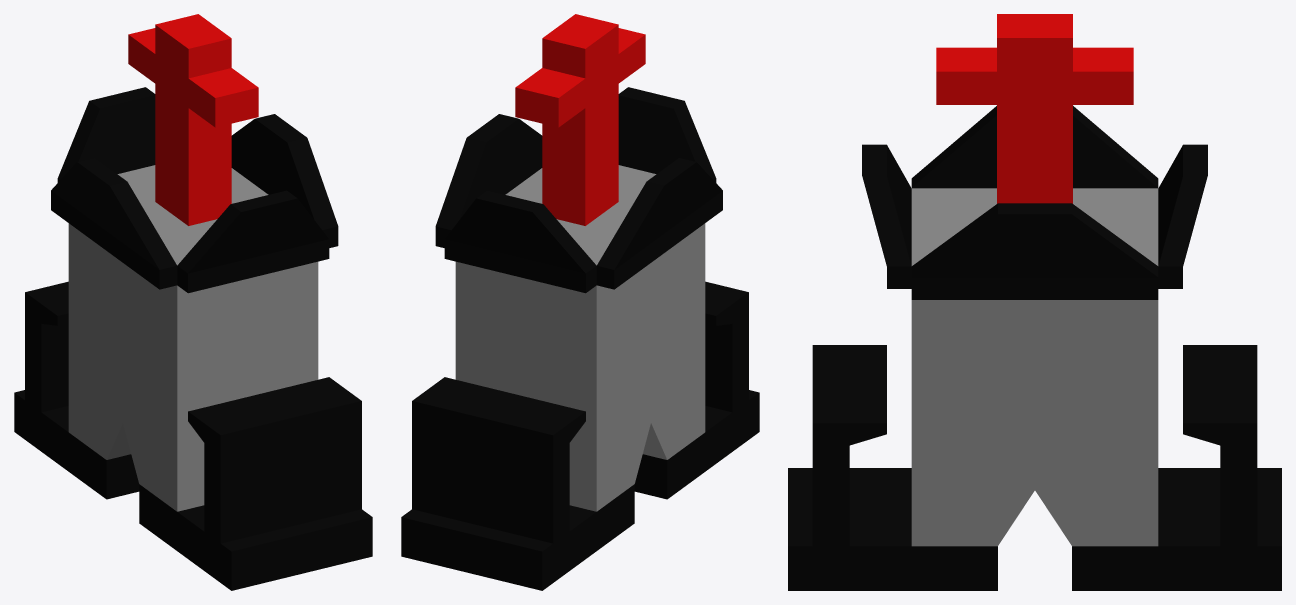
File: Spawner_Textured.fbx
3 views of the same model, side by side, from view 1: azimuth 30°, elevation 25°; view 2: azimuth 150°, elevation 25°; view 3: azimuth 270°, elevation 25° (orthographic). The views are drawn at different scales.
Parts seen in each view (by area): view 1: pCube1; view 2: pCube1; view 3: pCube1.
Boxes of the visible parts, <box> form: pCube1: <box>14,14,372,590</box>; pCube1: <box>401,14,759,590</box>; pCube1: <box>788,14,1281,590</box>.
Bounding box in the file's own units: 1.05 × 2.35 × 2.
